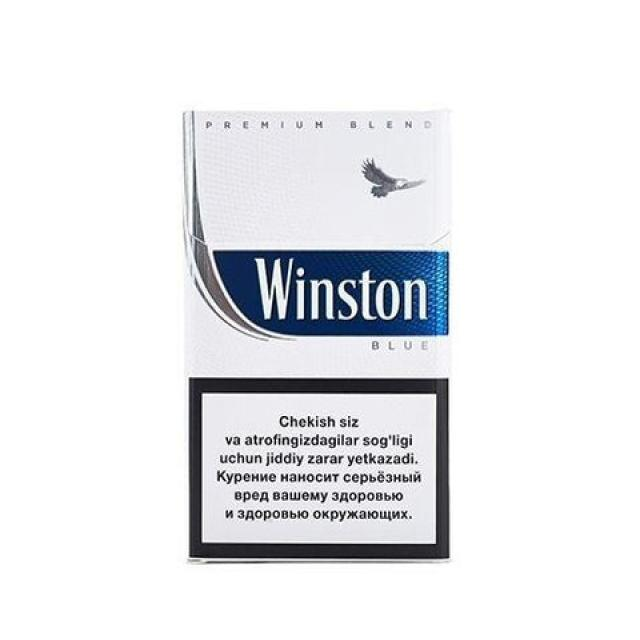winston: (180, 92, 451, 582)
